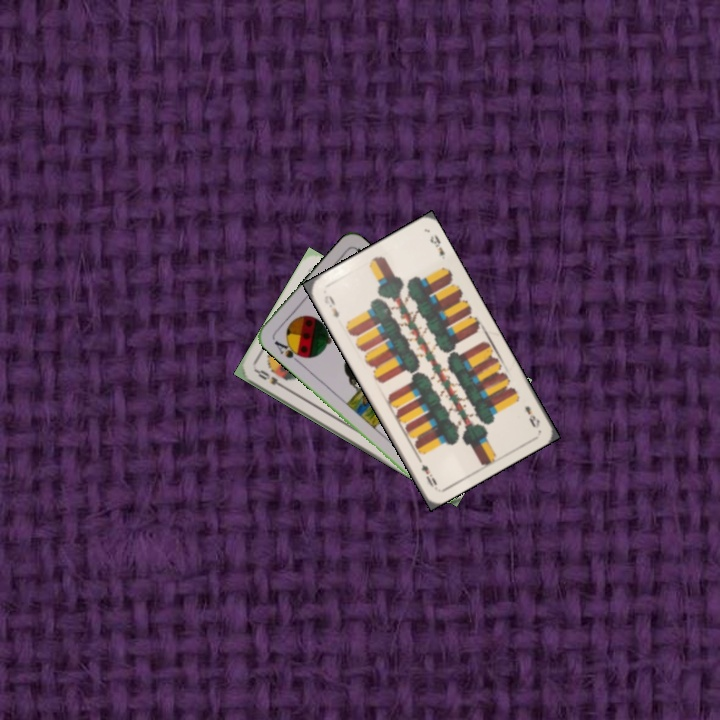E9: (320, 291, 342, 320), (521, 402, 542, 431)
SA: (270, 336, 307, 366)
SO: (252, 365, 289, 392)
